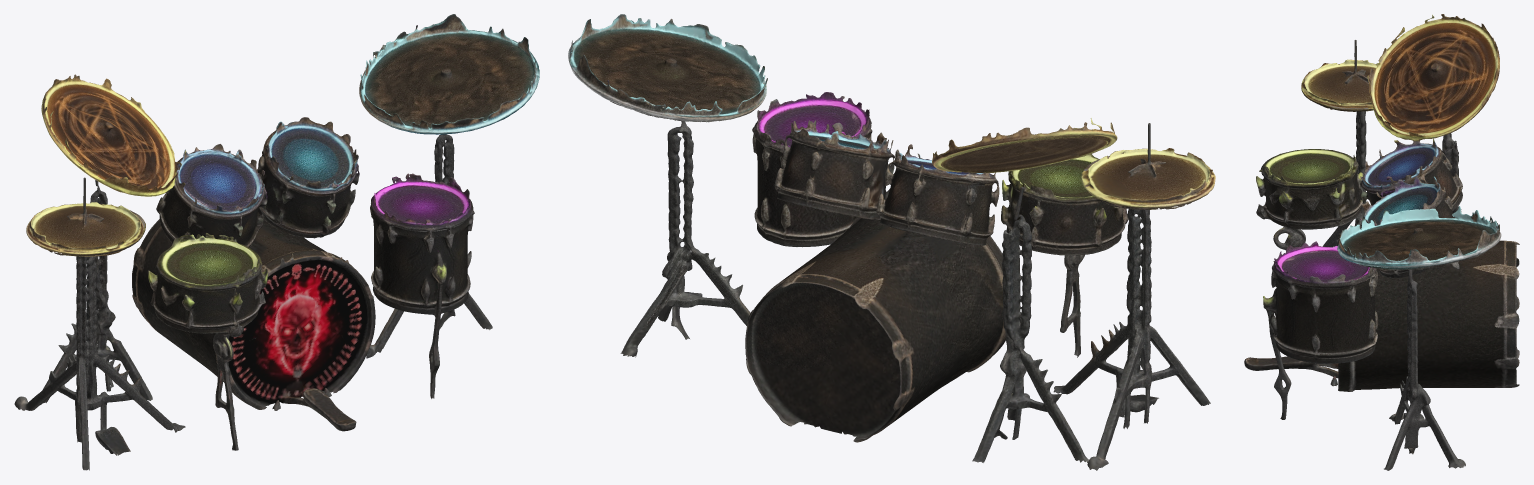
The model's file is bateria.glb.
The picture shows the model from 3 angles, left to right: view 1: azimuth 30°, elevation 25°; view 2: azimuth 150°, elevation 25°; view 3: azimuth 270°, elevation 25°; orthographic projection. The views are drawn at different scales.
Visible parts, largest first — view 1: mesh_node; view 2: mesh_node; view 3: mesh_node.
Boxes of the visible parts, left/top/right/bottom form: mesh_node: left=14, top=14, right=539, bottom=470; mesh_node: left=568, top=14, right=1215, bottom=470; mesh_node: left=1244, top=14, right=1519, bottom=470.
Bounding box in the file's own units: 1.84 × 1.03 × 0.9115.
1 material, 1 textured.
